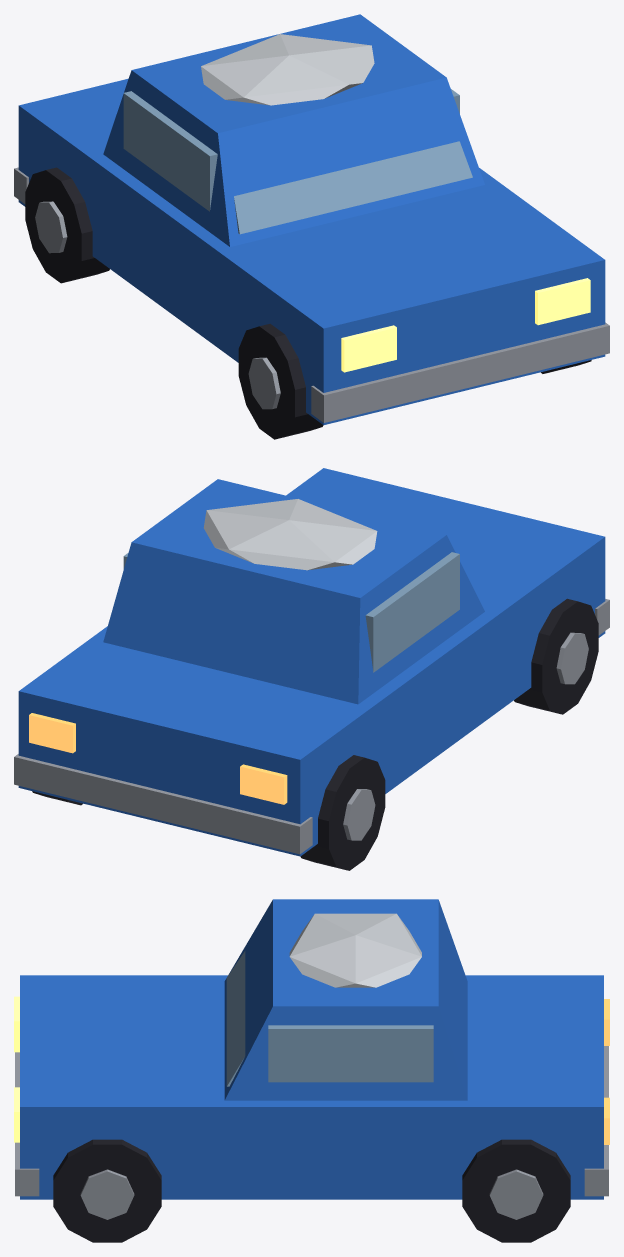
Rendered from Car_Blue.glb.
3 renders of one model, top to bottom at view 1: azimuth 30°, elevation 25°; view 2: azimuth 150°, elevation 25°; view 3: azimuth 270°, elevation 25°, orthographic. The views are drawn at different scales.
Visible parts, largest first — view 1: Car_Blue_Body, Car_Blue_Glow; view 2: Car_Blue_Body, Car_Blue_Glow; view 3: Car_Blue_Body, Car_Blue_Glow.
Part boxes in pixels (x1,y1,x2,y2): Car_Blue_Body: (14, 14, 609, 439); Car_Blue_Glow: (341, 278, 590, 372); Car_Blue_Body: (14, 468, 609, 870); Car_Blue_Glow: (29, 713, 287, 804); Car_Blue_Body: (15, 899, 608, 1242); Car_Blue_Glow: (14, 996, 609, 1144).
Size of the model in its own units: 7.1 by 5.36 by 12.24.
